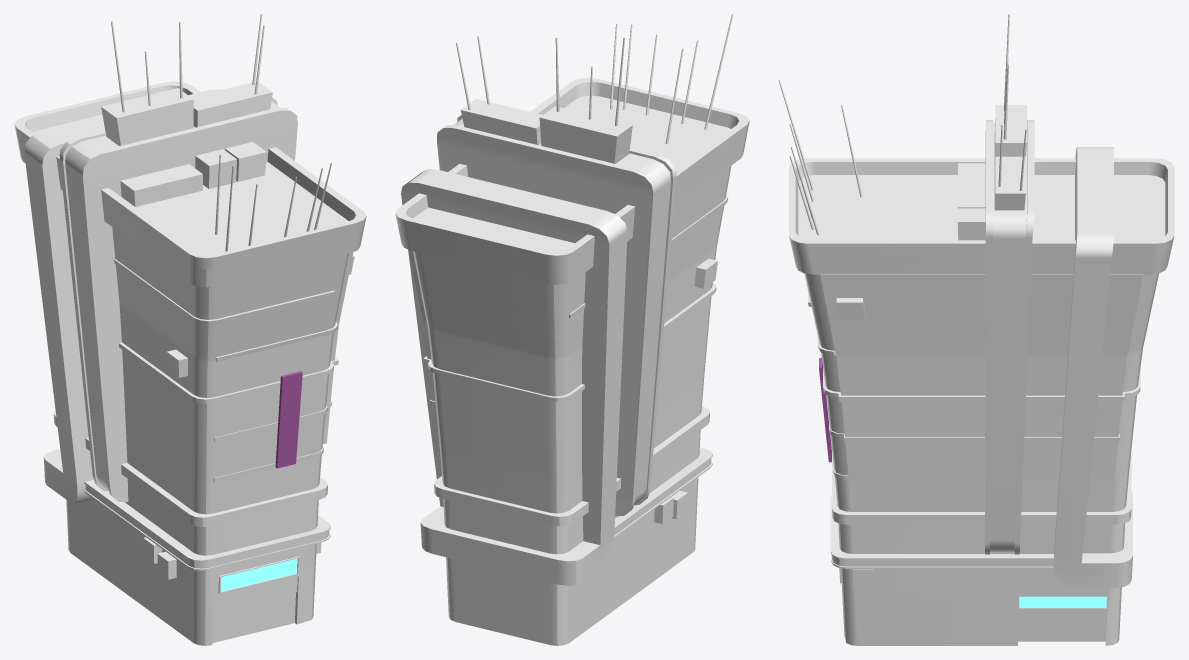
The model's file is SM_Batiment_05.fbx.
3 views of the same model, side by side, from view 1: azimuth 30°, elevation 25°; view 2: azimuth 150°, elevation 25°; view 3: azimuth 270°, elevation 25° (orthographic).
Visible parts, largest first — view 1: SM_Batiment_05; view 2: SM_Batiment_05; view 3: SM_Batiment_05.
Boxes of the visible parts, <box> form: SM_Batiment_05: <box>14,14,366,645</box>; SM_Batiment_05: <box>395,14,749,645</box>; SM_Batiment_05: <box>778,14,1174,645</box>.
Bounding box in the file's own units: 12.05 × 30.42 × 19.14.
